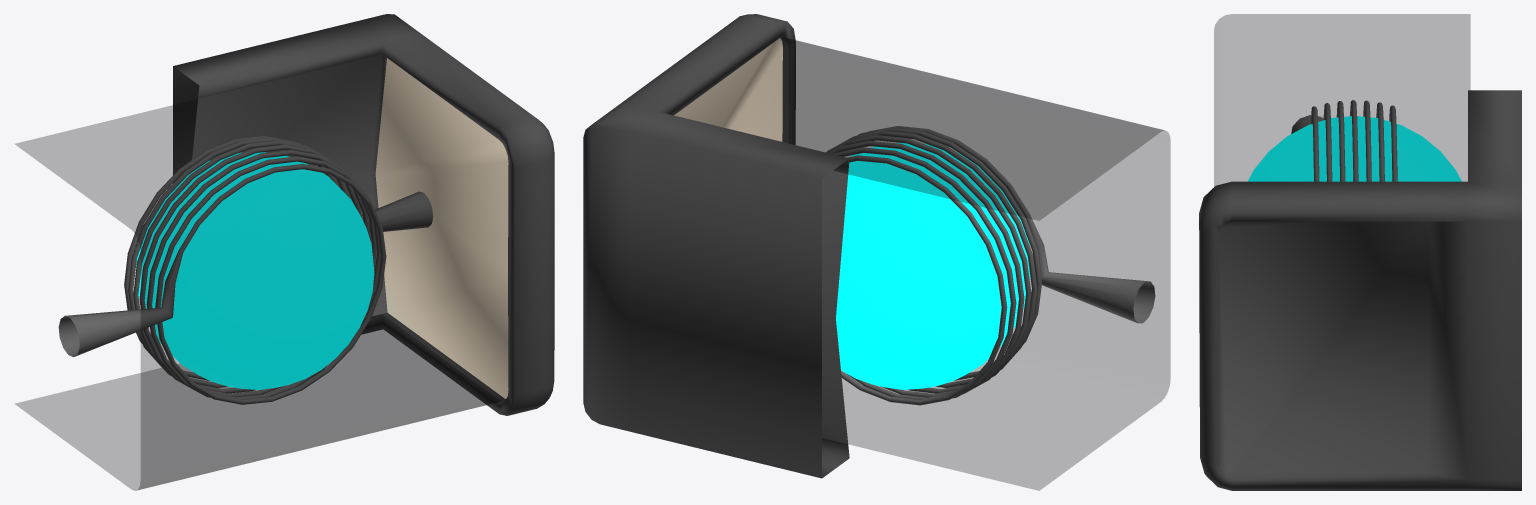
The model's file is generator.glb.
3 renders of one model, left to right at view 1: azimuth 30°, elevation 25°; view 2: azimuth 150°, elevation 25°; view 3: azimuth 270°, elevation 25°, orthographic. The views are drawn at different scales.
Visible parts, largest first — view 1: Plane.010, Plane.009, Sphere, Spiral; view 2: Plane.009, Plane.010, Sphere, Spiral; view 3: Plane.009, Plane.010, Sphere, Spiral.
Boxes of the visible parts, x1,y1,x2,y2 form: Plane.010: (15,54,508,490); Plane.009: (173,14,554,415); Sphere: (136,152,374,389); Spiral: (58,136,433,404); Plane.009: (583,14,849,478); Plane.010: (674,37,1170,490); Sphere: (836,142,1030,389); Spiral: (826,126,1155,405); Plane.009: (1199,90,1521,490); Plane.010: (1214,14,1470,186); Sphere: (1247,116,1461,181); Spiral: (1291,100,1397,181).
Size of the model in its own units: 0.95 by 0.6 by 0.5988.
